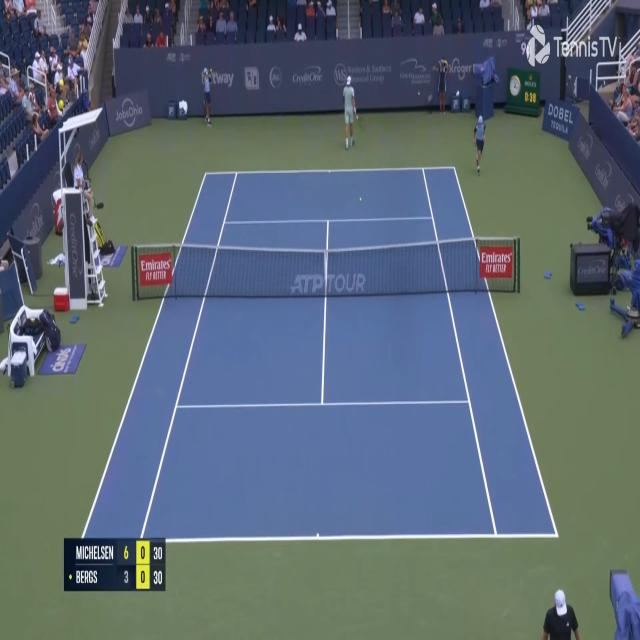tennis-player: (540, 584, 582, 640), (342, 74, 361, 151)
